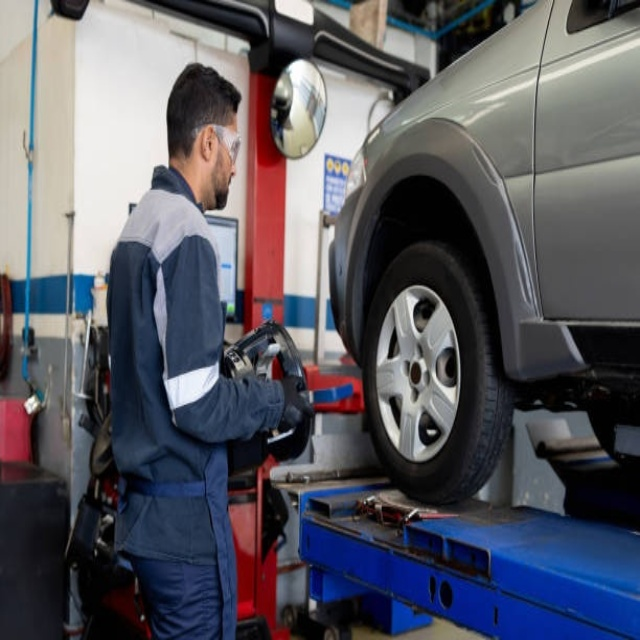Gafas: (196, 124, 241, 165)
Guantes: (276, 369, 318, 436)
Sin_mascara: (213, 169, 238, 202)
